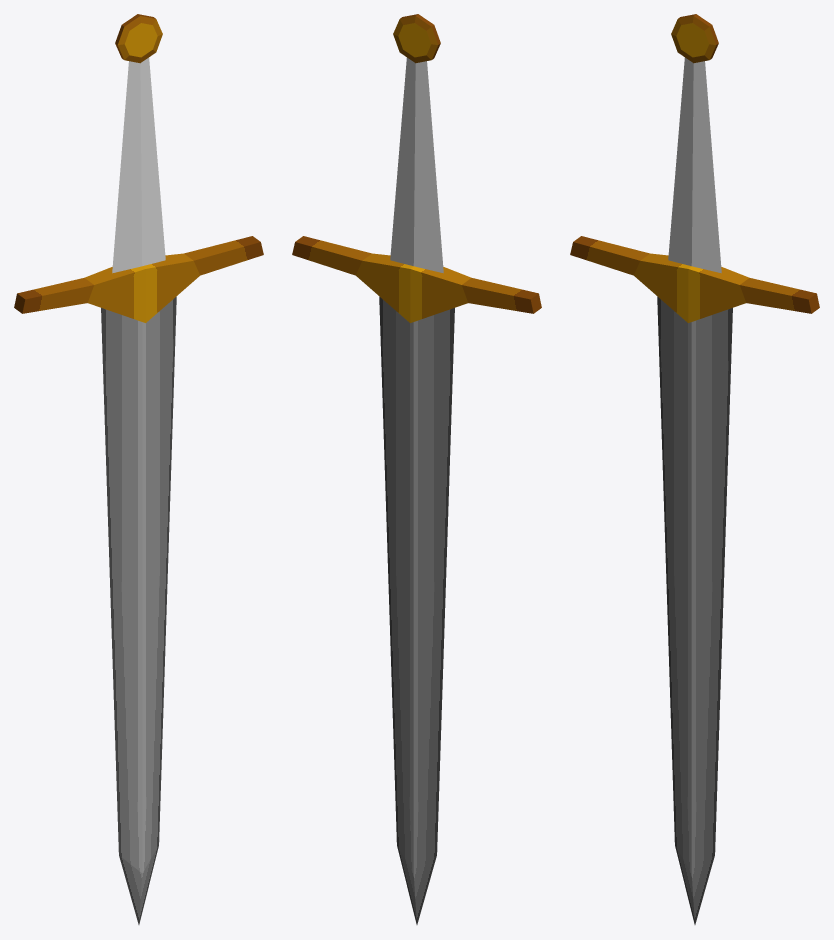
File: Longsword.fbx
The picture shows the model from 3 angles, left to right: view 1: azimuth 30°, elevation 25°; view 2: azimuth 150°, elevation 25°; view 3: azimuth 330°, elevation 25°; orthographic projection.
Visible parts, largest first — view 1: Longsword; view 2: Longsword; view 3: Longsword.
Boxes of the visible parts, <box> form: Longsword: <box>14,14,263,924</box>; Longsword: <box>292,14,541,924</box>; Longsword: <box>570,14,819,924</box>.
Size of the model in its own units: 9.45 by 34.05 by 0.9207.
3 materials, 2 textured.
